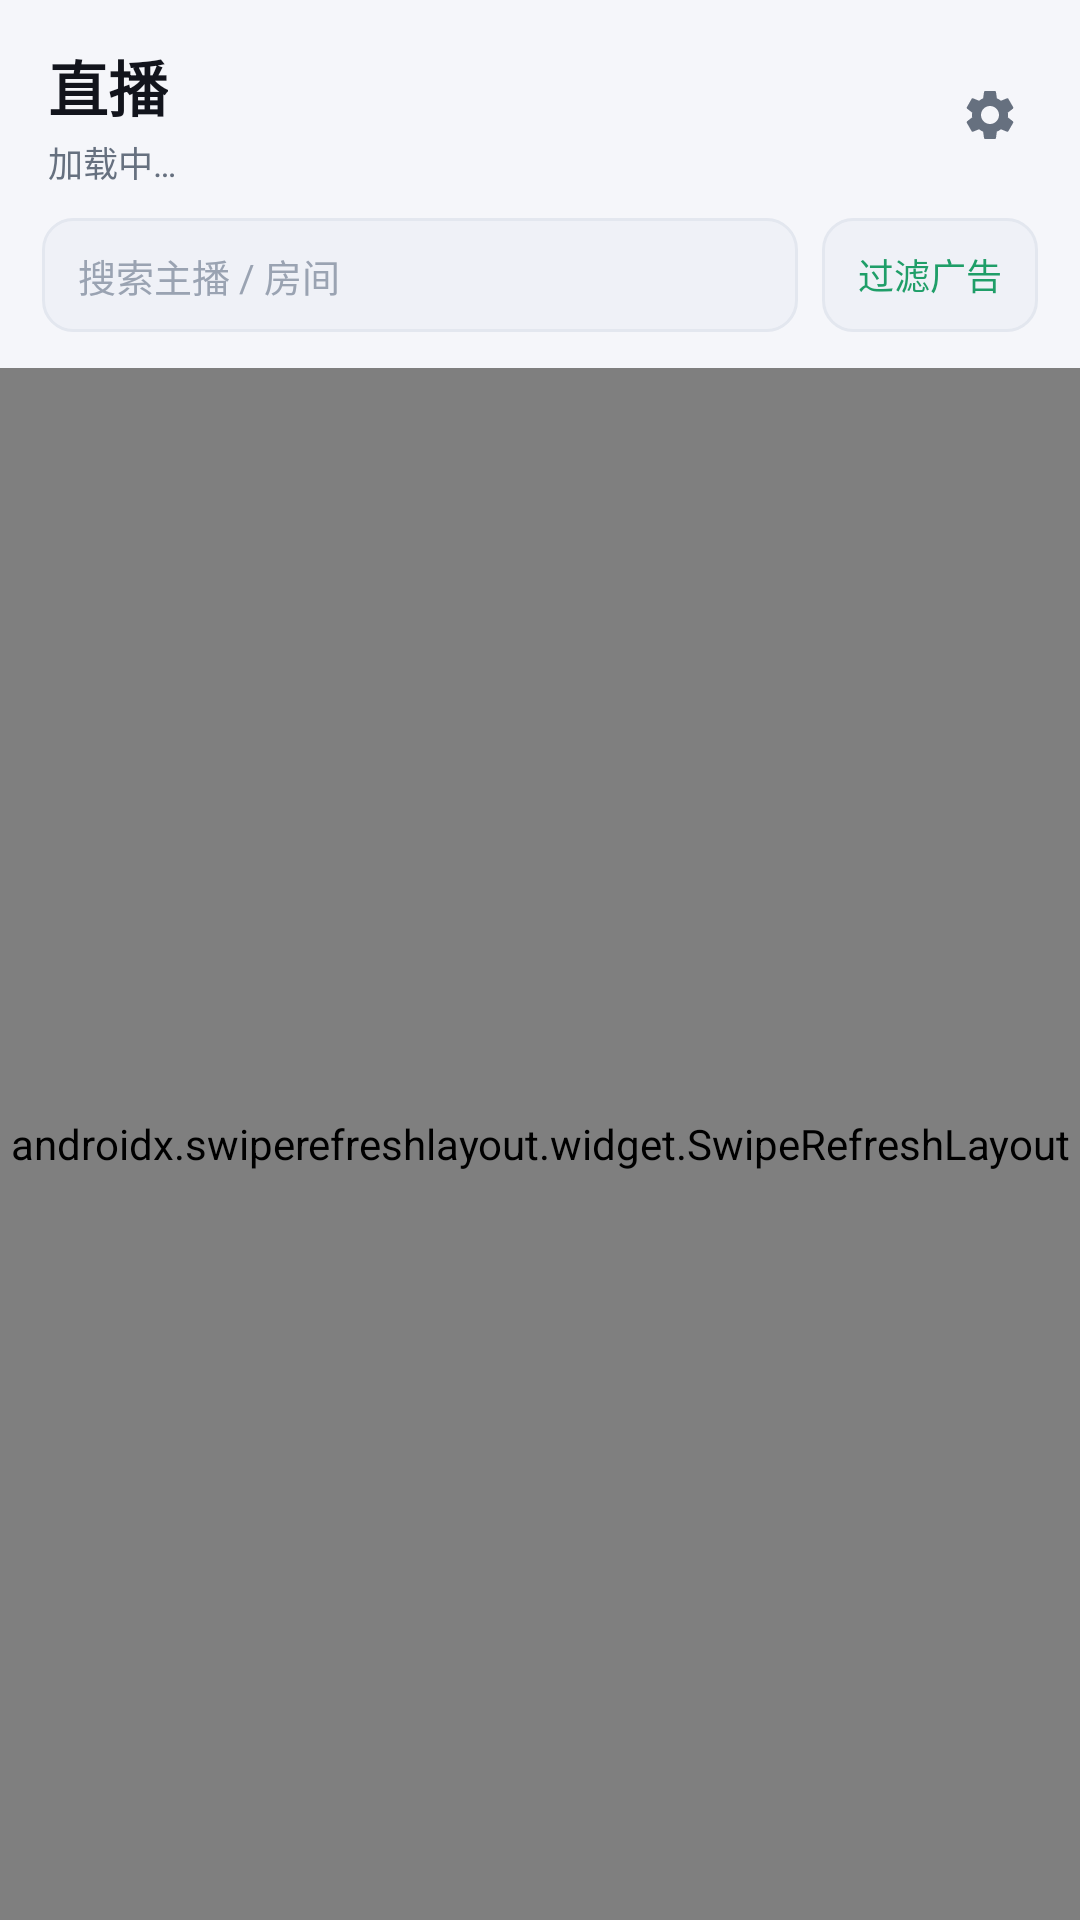

Icon click points for this 1080w x 1920h phone screenshot, format (x=x, y=y):
设置: (x=990, y=115)
